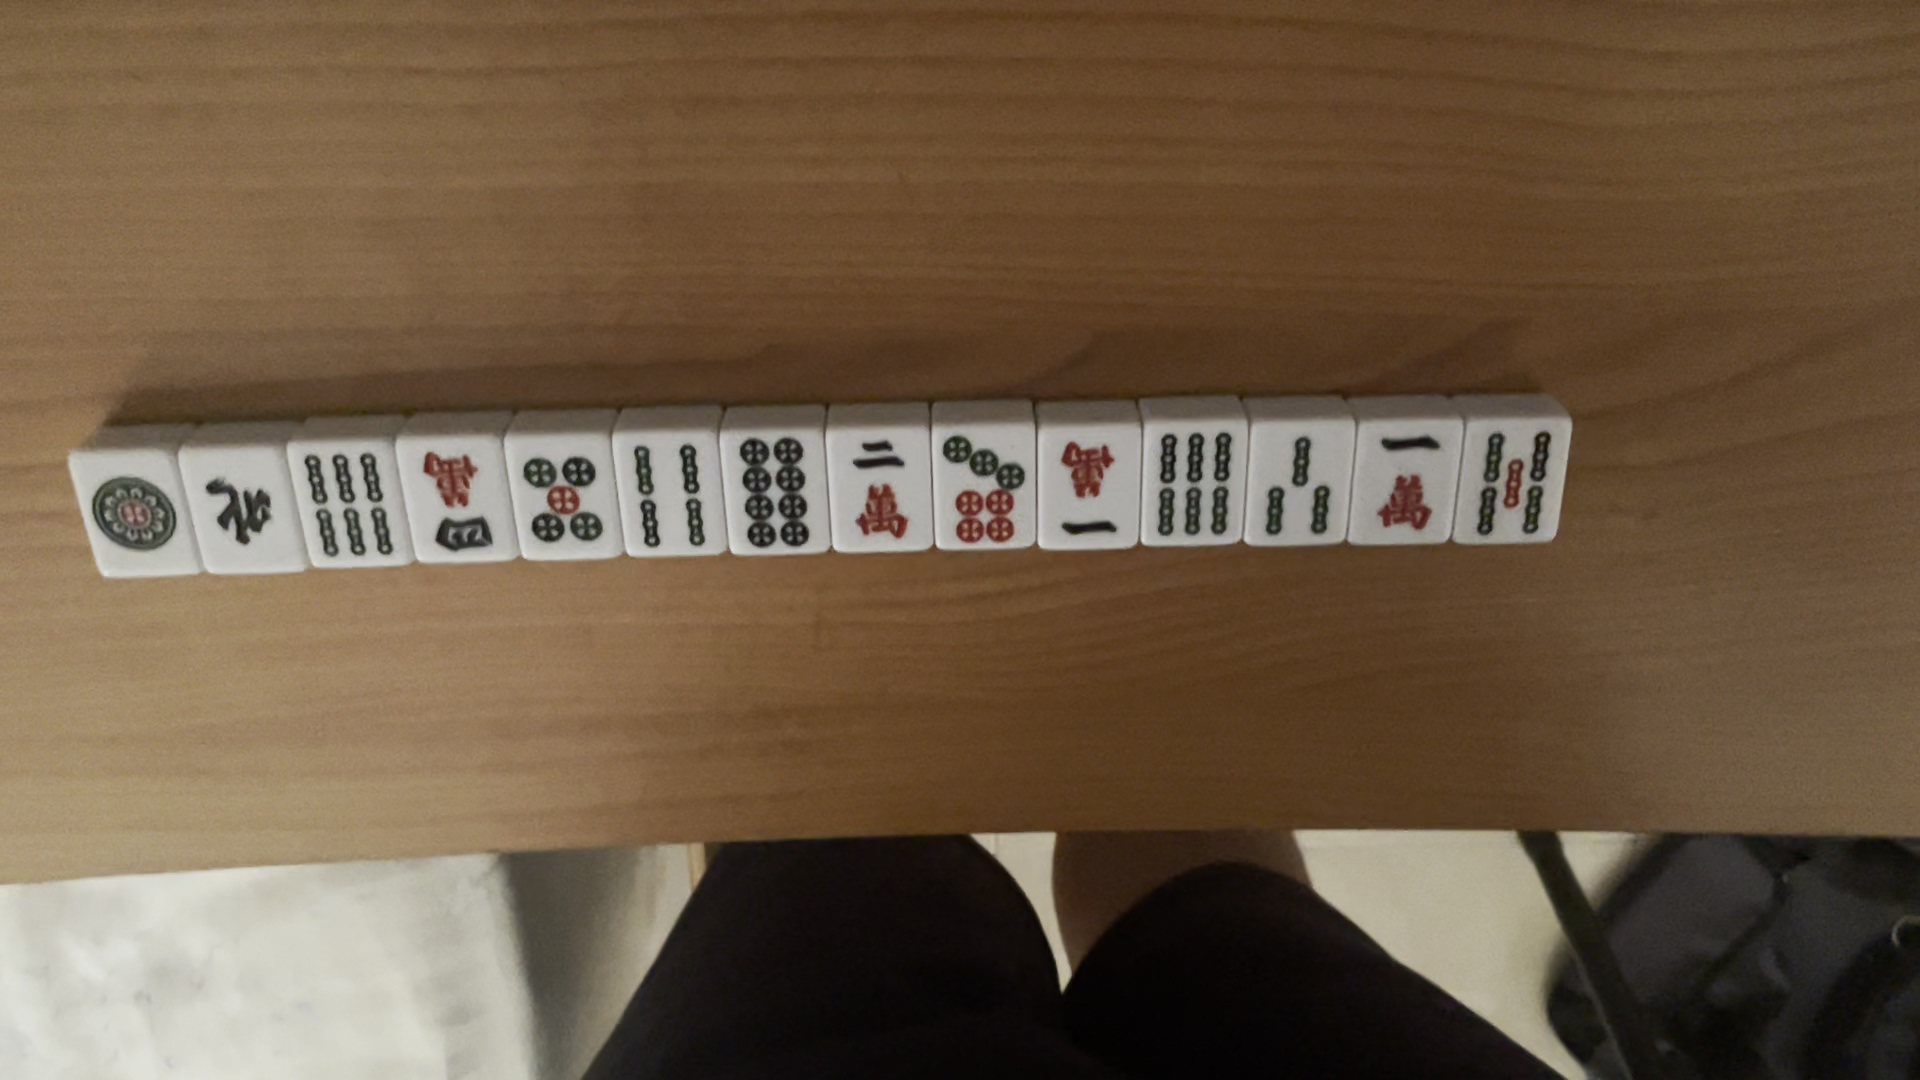b-3: (1258, 433, 1333, 541)
b-4: (622, 440, 709, 550)
b-5: (1473, 427, 1557, 541)
b-6: (299, 448, 394, 563), (1153, 431, 1236, 541)
c-1: (1371, 433, 1444, 535), (1054, 440, 1124, 537)
c-2: (849, 435, 916, 541)
c-4: (409, 440, 497, 560)
d-1: (90, 469, 178, 559)
d-5: (518, 444, 607, 547)
d-7: (942, 434, 1029, 550)
d-8: (736, 436, 816, 551)
honors-north: (202, 476, 281, 554)
